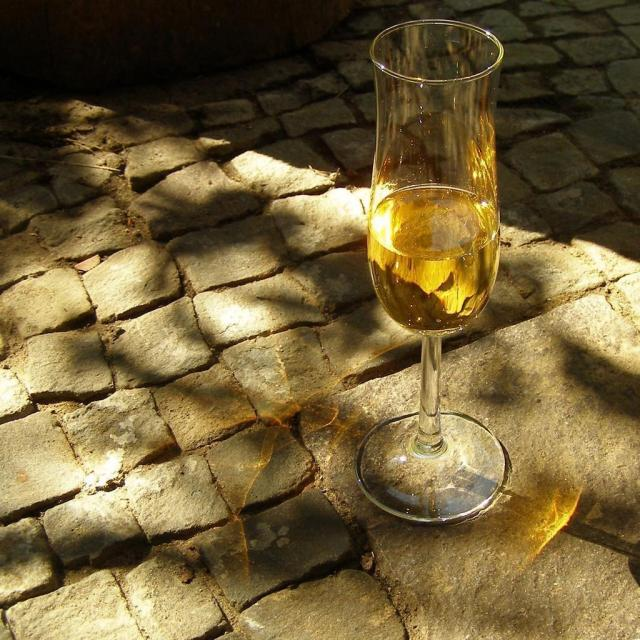glass-wine: (358, 20, 511, 528)
